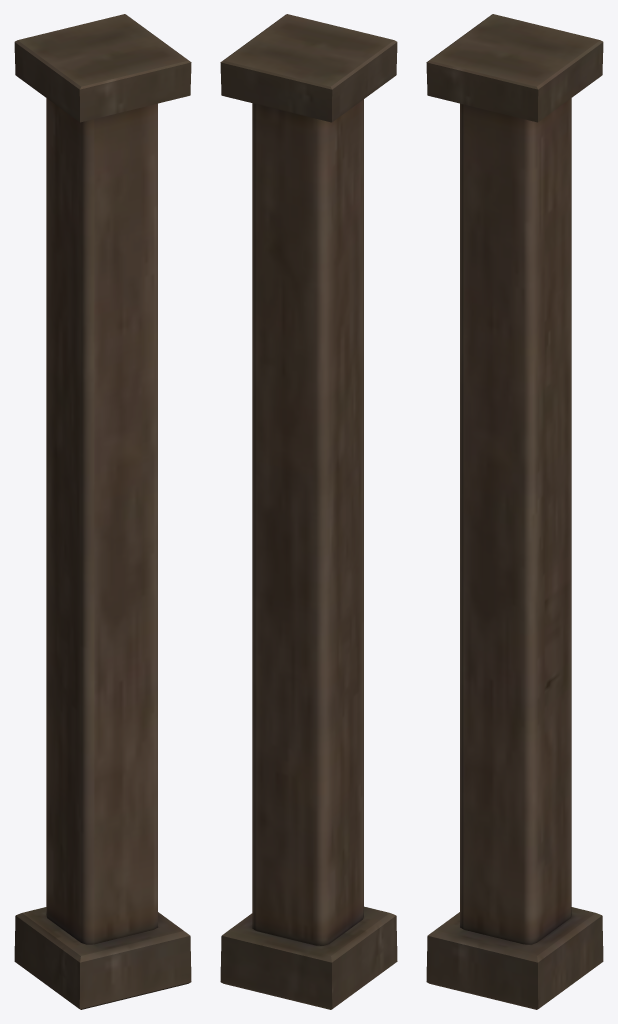
File: Architecture_JapaneseStyle_Pillar_de21ef.glb
3 views of the same model, side by side, from view 1: azimuth 30°, elevation 25°; view 2: azimuth 150°, elevation 25°; view 3: azimuth 330°, elevation 25° (orthographic).
Size of the model in its own units: 0.4206 by 3.32 by 0.4257.
1 material, 1 textured.
